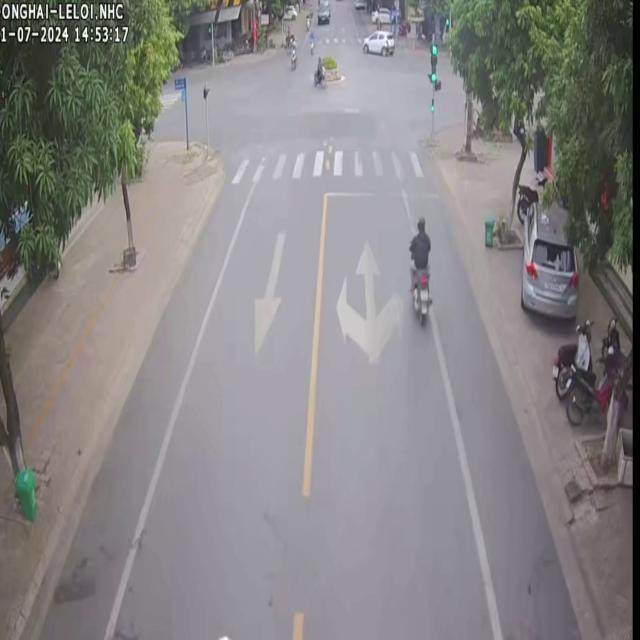car: (519, 200, 577, 316), (360, 29, 393, 54), (316, 0, 329, 21)
green_light: (429, 44, 439, 87)
motobike: (564, 345, 623, 422), (550, 318, 590, 398), (408, 216, 429, 322), (312, 56, 323, 85), (288, 38, 296, 68)
stop_line: (322, 189, 442, 197)
